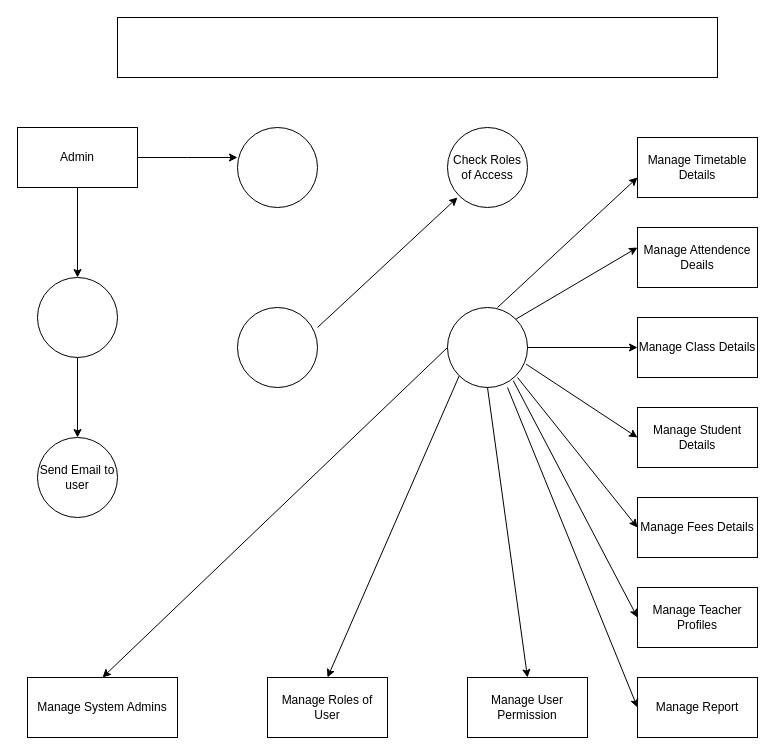
This 775x755 diagram has some shape labels left out. The shapes that lost their labels are listed below. From the top down, each one's centre as x and y in pixels, then its label:
[417,47]: Student Information system
[277,167]: Login to system
[77,317]: Forget password
[277,347]: Check Credentials
[487,347]: Manage Modules
